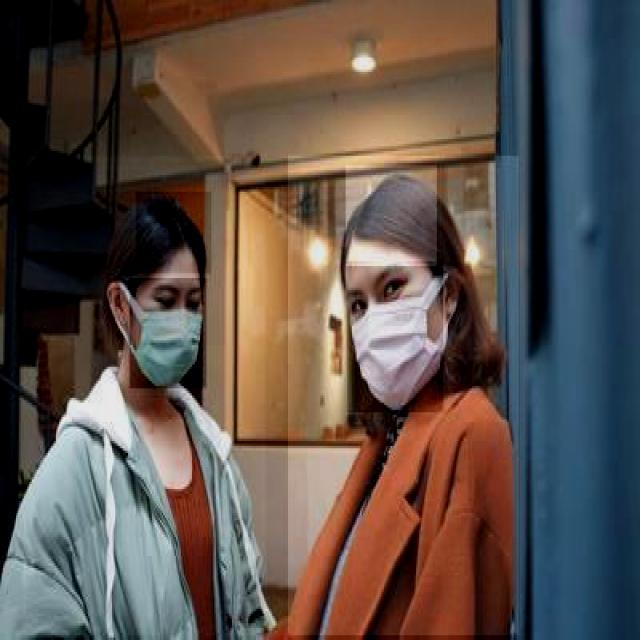face_mask: (347, 262, 443, 412), (130, 278, 207, 388)
head_nohelmet: (344, 165, 437, 268), (134, 192, 212, 276)
person: (21, 155, 266, 638), (286, 155, 518, 638)
